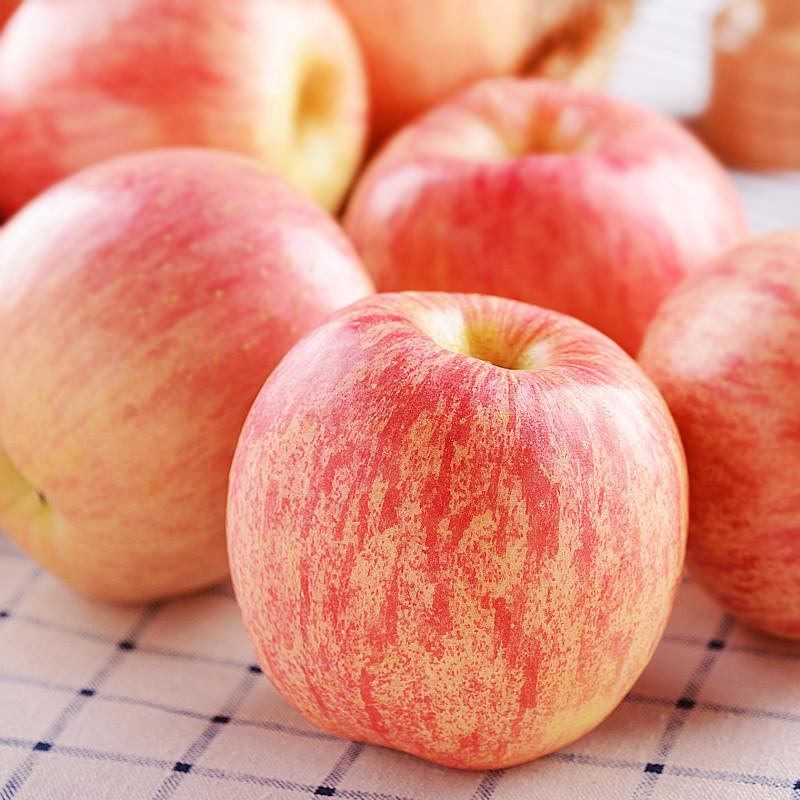apple: (222, 290, 695, 771), (1, 146, 372, 613), (369, 87, 753, 366), (1, 3, 371, 218)
